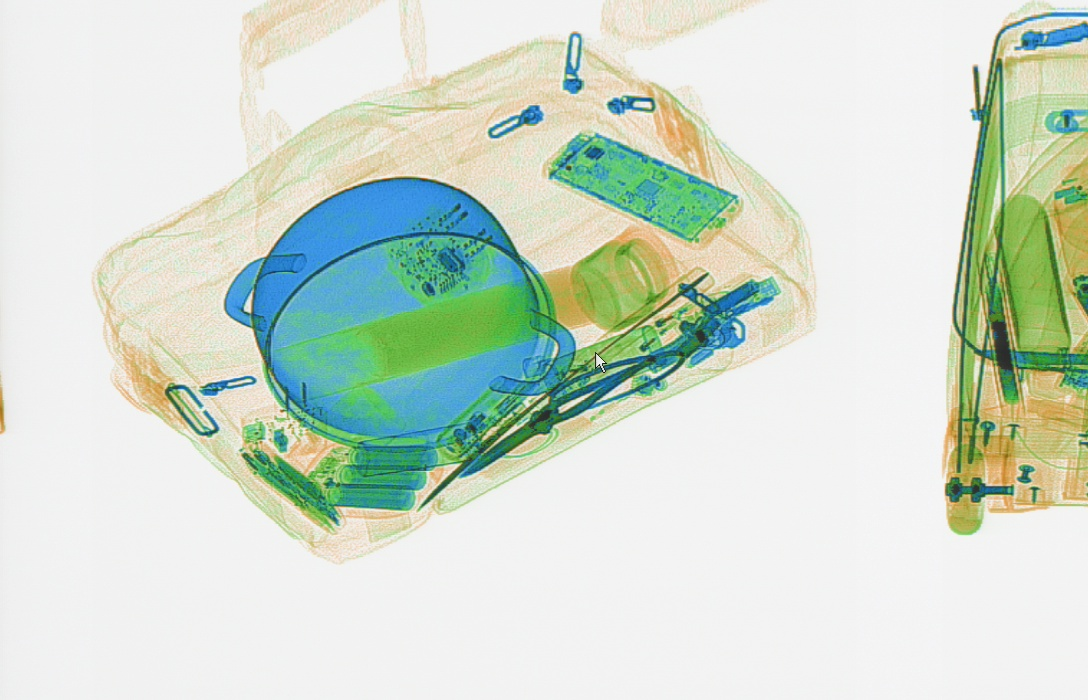knife: (403, 263, 715, 514)
lighter: (603, 293, 705, 385)
powerbank: (289, 438, 439, 520)
scissors: (454, 346, 685, 478)
